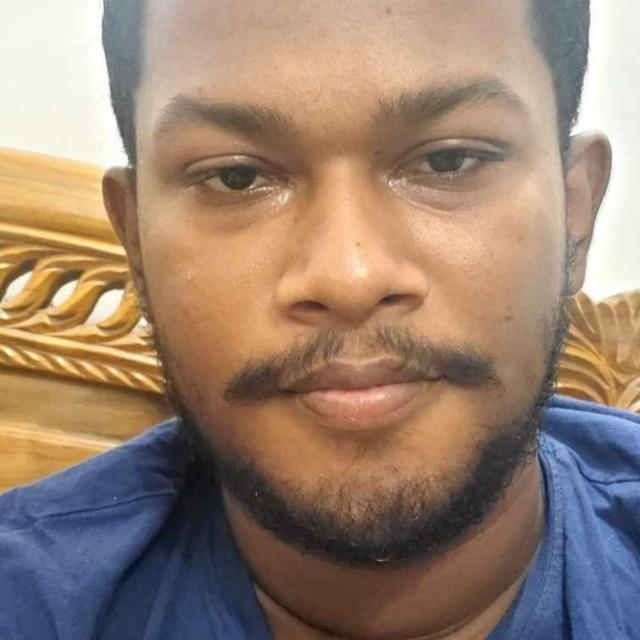Natural: (66, 36, 623, 572)
